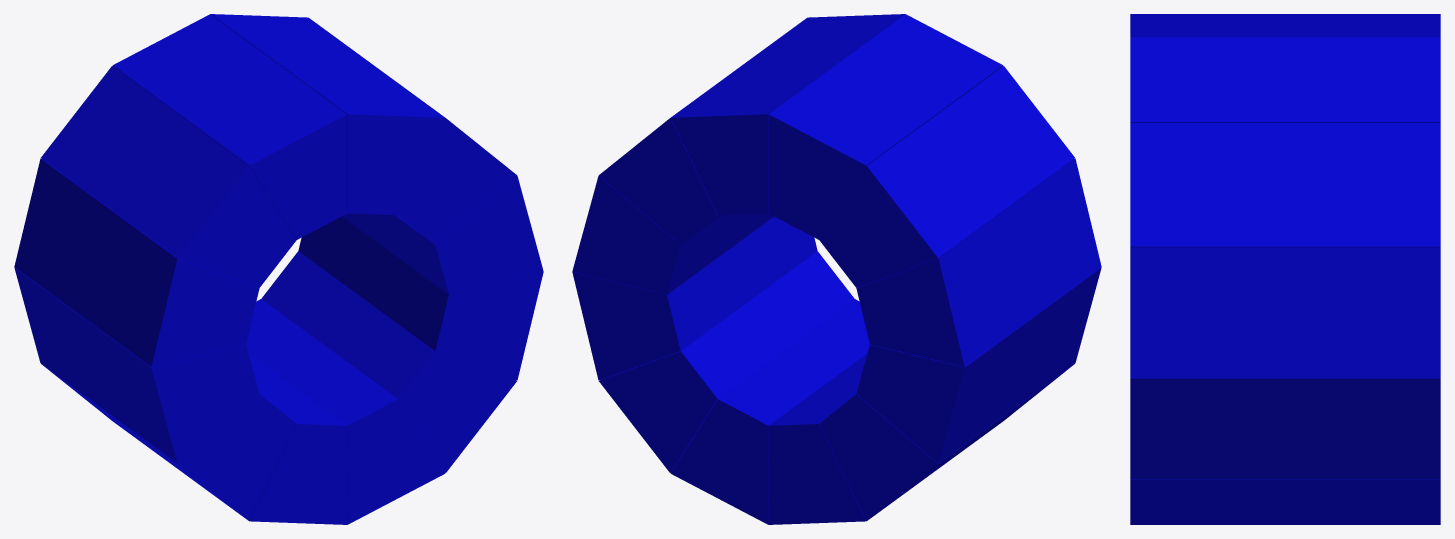
Rendered from HCalBarrel.gltf.
3 views of the same model, side by side, from view 1: azimuth 30°, elevation 25°; view 2: azimuth 150°, elevation 25°; view 3: azimuth 270°, elevation 25° (orthographic). The views are drawn at different scales.
Visible parts, largest first — view 1: HCalBarrel; view 2: HCalBarrel; view 3: HCalBarrel.
Part boxes in pixels (x1,y1,x2,y2): HCalBarrel: (14,14,543,524); HCalBarrel: (572,14,1101,524); HCalBarrel: (1130,14,1440,524).
Bounding box in the file's own units: 8514 × 8514 × 5149.
